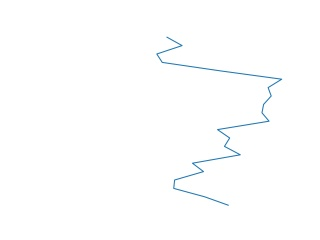floodPlain: (155, 35, 283, 208)
